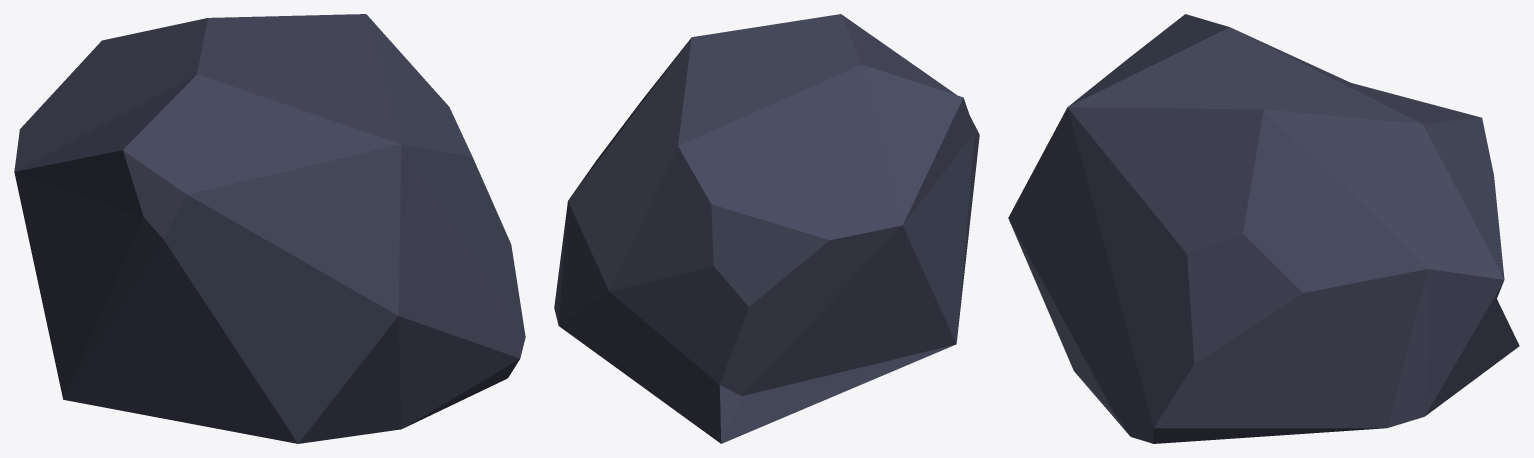
File: rock3.fbx
3 views of the same model, side by side, from view 1: azimuth 30°, elevation 25°; view 2: azimuth 150°, elevation 25°; view 3: azimuth 270°, elevation 25° (orthographic). The views are drawn at different scales.
Parts seen in each view (by area): view 1: Icosphere.002; view 2: Icosphere.002; view 3: Icosphere.002.
Part boxes in pixels (<box>): Icosphere.002: <box>14,14,525,443</box>; Icosphere.002: <box>554,14,979,443</box>; Icosphere.002: <box>1008,14,1519,443</box>.
Bounding box in the file's own units: 73.4 × 58.08 × 85.5.
